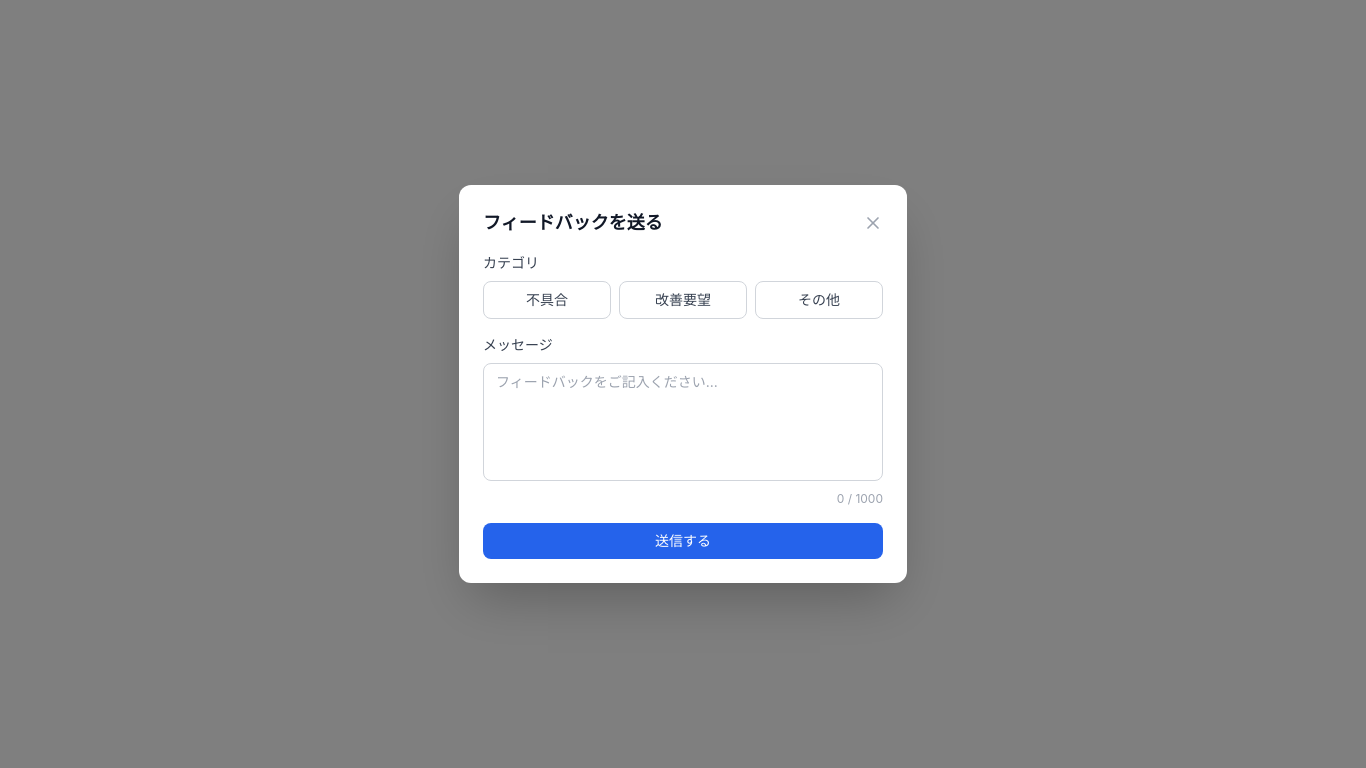
Test case: FeedbackModal › 429 エラー時にレート制限メッセージが表示される
Click the button "不具合".
click(547, 300)  # box [483,281,611,319]
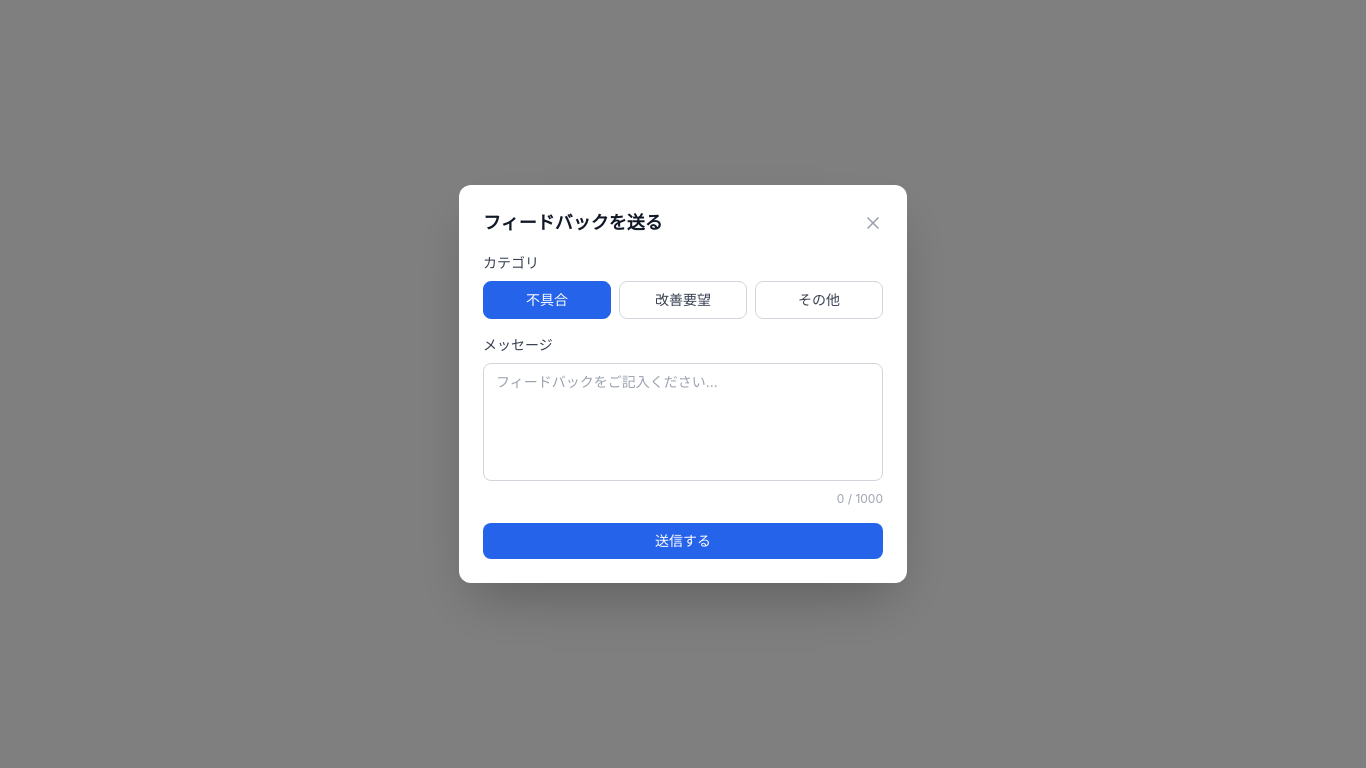
Type "テスト" into the text box.
click(683, 422); type("テスト")  # box [483,363,883,481]
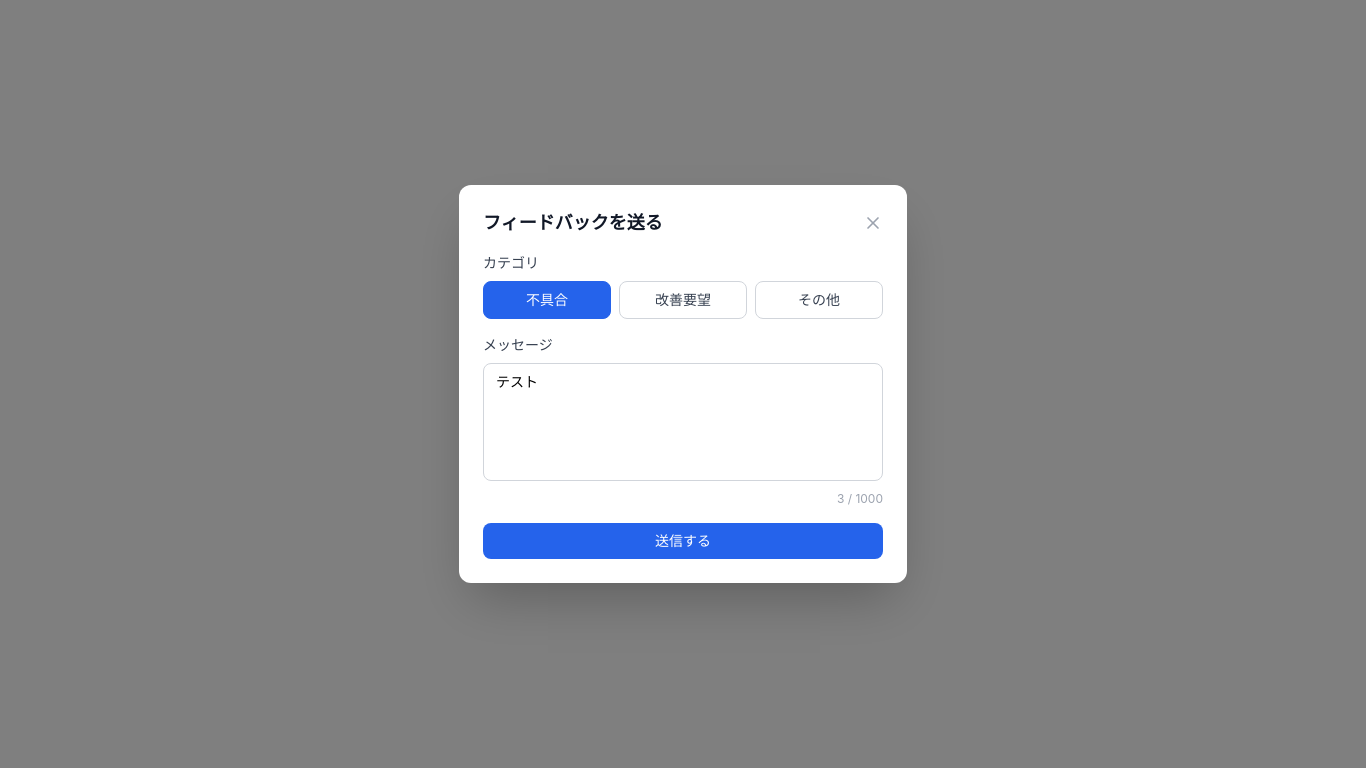
Click the button "送信する".
click(683, 541)  # box [483,523,883,559]
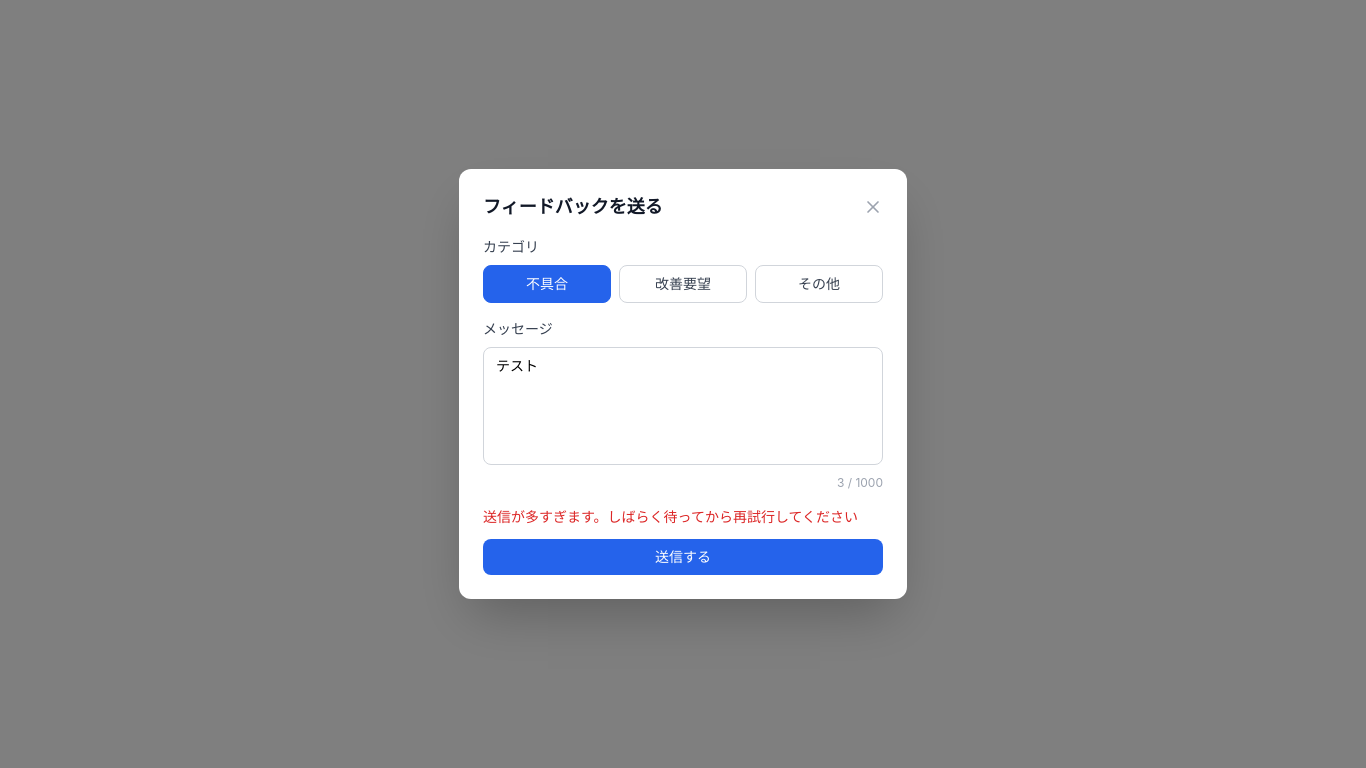
Result: the text "送信が多すぎます。しばらく待ってから再試行してください" is shown at [483,507,883,527]
